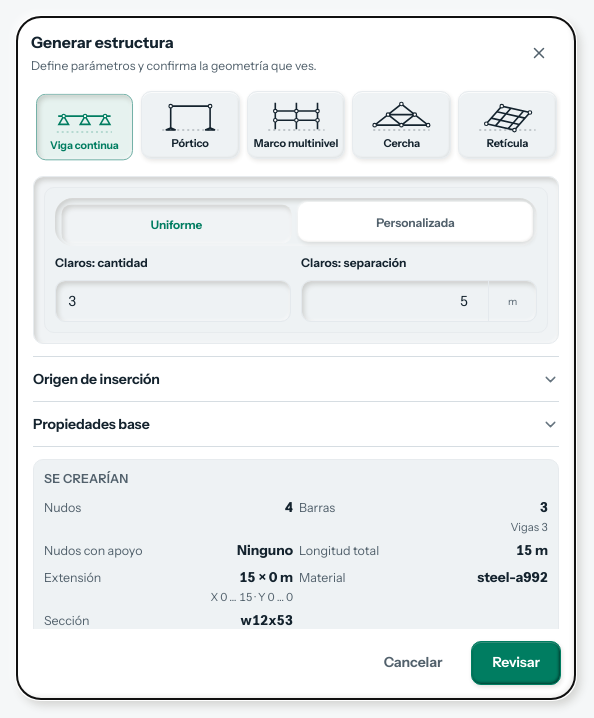
Scenario: parámetros por familia › ofrece el peralte y la topología sólo en la cercha
The width and height of the screenshot is (594, 718).
Expected: the field labelled "Peralte" is not shown
Click the radio button labelled "Cercha".
click(402, 125)  # box [352,91,451,159]
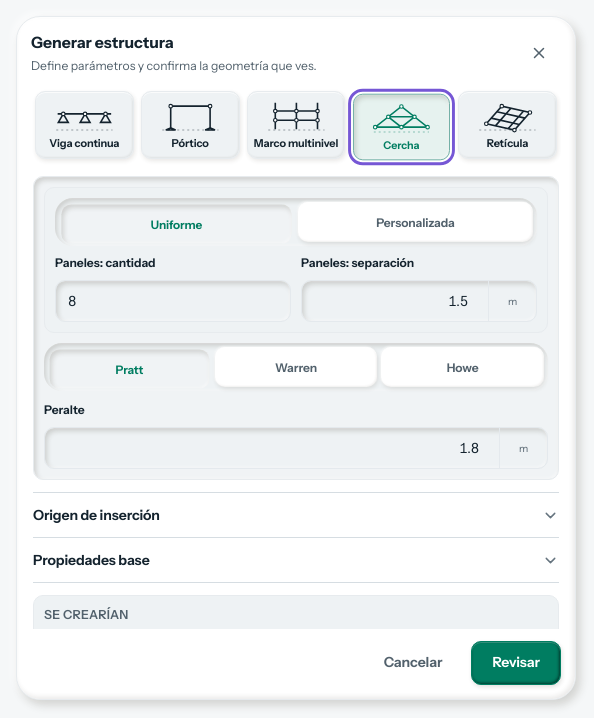
Expected: the field labelled "Peralte" is shown, [45,428,491,468]
Expected: the radio button labelled "Pratt" is shown, [50,350,209,389]
